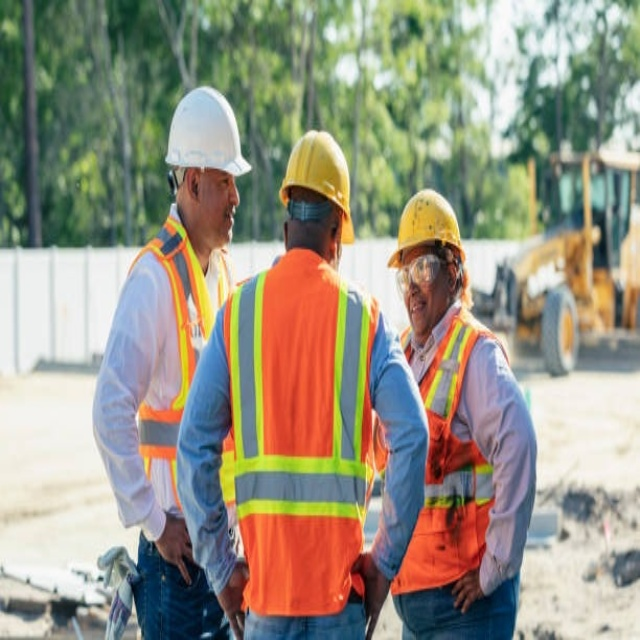Gafas: (395, 246, 452, 293)
Sin_gafas: (195, 174, 237, 194)
Sin_guantes: (153, 512, 199, 586), (356, 547, 389, 635), (217, 553, 250, 635), (451, 563, 486, 612)
Sin_mascara: (214, 200, 238, 238), (410, 295, 427, 328)
